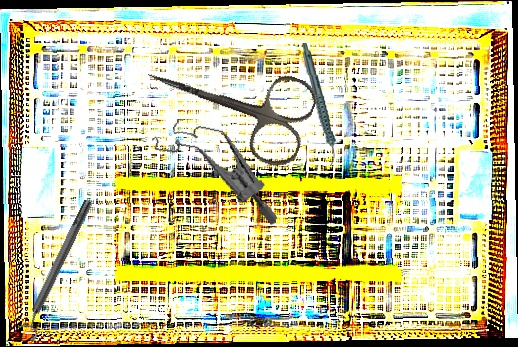Fixation Ring: (12, 196, 101, 343)
Handpiece: (301, 42, 337, 166)
Iris Scissors: (133, 30, 322, 173)
Speculum: (138, 111, 295, 228)
